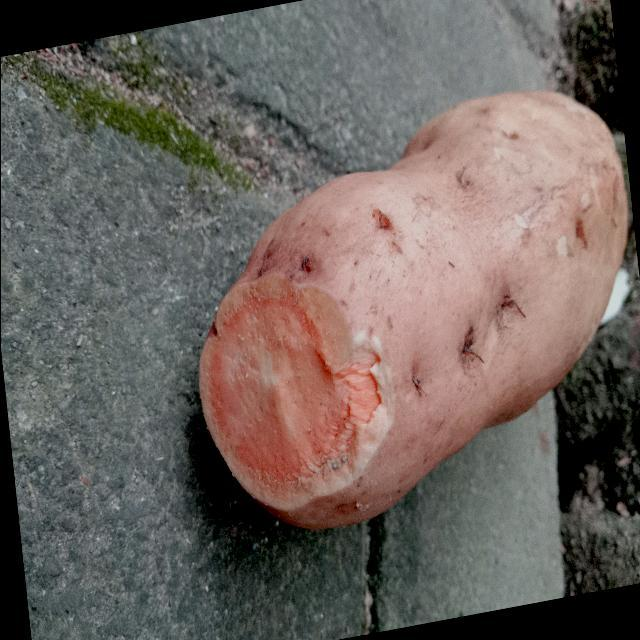Healthy Sweet Potato: (199, 277, 394, 510)
